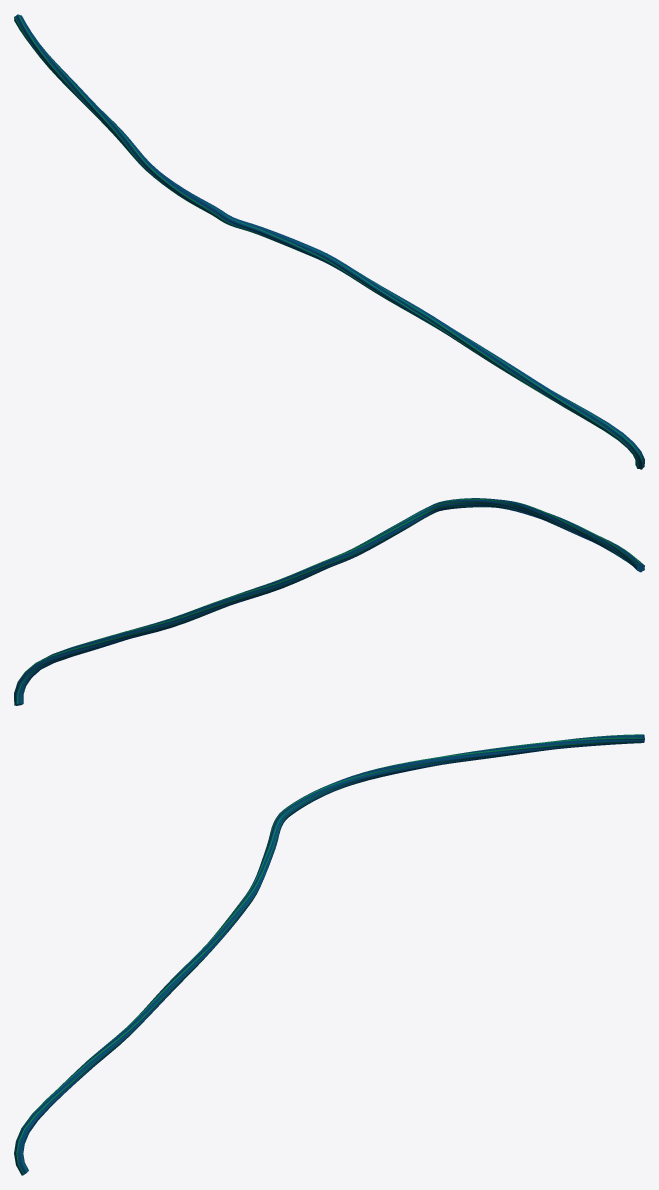
The model's file is cables 11.FBX.
3 renders of one model, top to bottom at view 1: azimuth 30°, elevation 25°; view 2: azimuth 210°, elevation 25°; view 3: azimuth 270°, elevation 25°, orthographic.
Parts seen in each view (by area): view 1: Loft016; view 2: Loft016; view 3: Loft016.
Part boxes in pixels (x1,y1,x2,y2): Loft016: (14,14,644,469); Loft016: (14,498,644,705); Loft016: (14,734,644,1175).
Bounding box in the file's own units: 688 × 602 × 1172.
